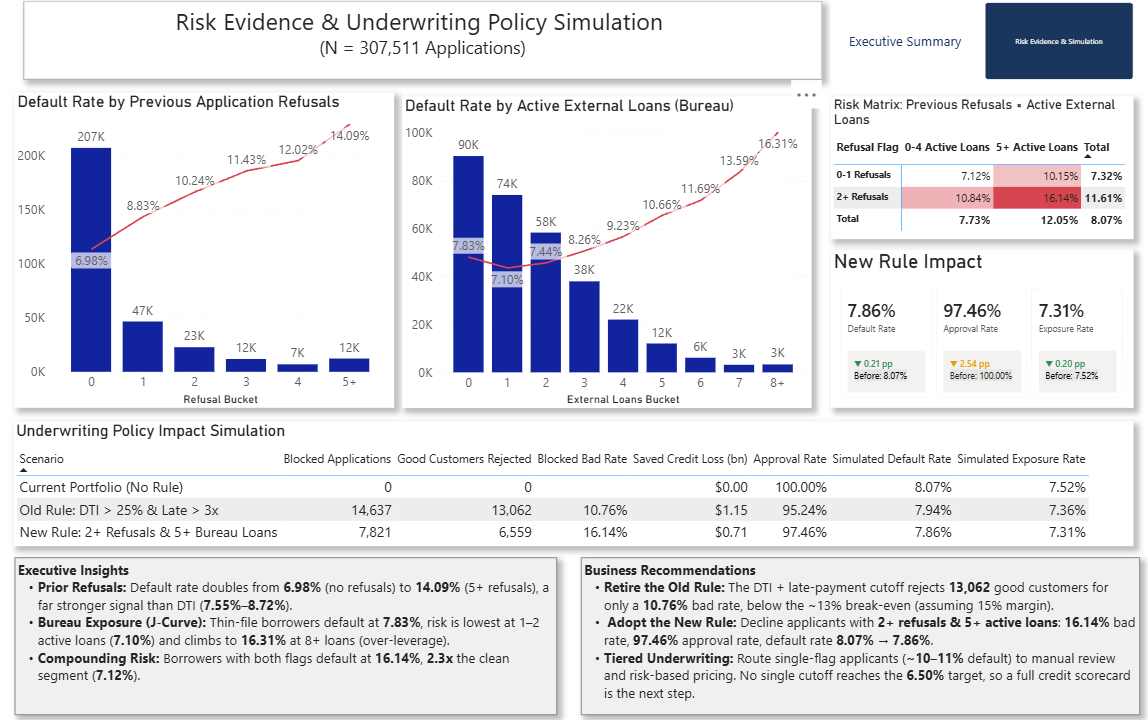

The dashboard page shown, as its layout file describes it:
{"tool":"powerbi","page":{"name":"Risk Evidence & Simulation","canvas":[2110,1339],"ordinal":1},"visuals":[{"type":"lineClusteredColumnComboChart","title":"Default Rate by Previous Application Refusals","fields":{"Category":["public master_credit_risk.Refusal Bucket"],"Y":["public master_credit_risk.Total Applications"],"Y2":["public master_credit_risk.Default Rate"]},"box":[33.3,186.7,690,573.3],"z":0},{"type":"lineClusteredColumnComboChart","title":"Default Rate by Active External Loans (Bureau)","fields":{"Category":["public master_credit_risk.External Loans Bucket"],"Y":["public master_credit_risk.Total Applications"],"Y2":["public master_credit_risk.Default Rate"]},"box":[740,192.5,745,567.5],"z":1000},{"type":"pivotTable","title":"Risk Matrix: Previous Refusals × Active External Loans","fields":{"Columns":["public master_credit_risk.Bureau Flag"],"Rows":["public master_credit_risk.Refusal Flag"],"Values":["public master_credit_risk.Default Rate"]},"box":[1520,192.5,550,260],"z":2000},{"type":"tableEx","title":"Underwriting Policy Impact Simulation","fields":{"Values":["Policy Scenario.Scenario","public master_credit_risk.Blocked Applications","public master_credit_risk.Good Customers Rejected","public master_credit_risk.Blocked Bad Rate","public master_credit_risk.Saved Credit Loss (bn)","public master_credit_risk.Approval Rate","public master_credit_risk.Simulated Default Rate","public master_credit_risk.Simulated Exposure Rate"]},"box":[32.5,785,2037.5,227.5],"z":3000},{"type":"textbox","box":[50,20,1452.5,142.5],"z":4000},{"type":"textbox","box":[1063.3,1033.3,1016.7,286.7],"z":5000},{"type":"textbox","box":[33.3,1033.3,986.7,286.7],"z":6000},{"type":"cardVisual","title":"New Rule Impact","fields":{"Data":["public master_credit_risk.Simulated Default Rate","public master_credit_risk.Approval Rate","public master_credit_risk.Simulated Exposure Rate"]},"box":[1520,472.5,550,287.5],"z":7000},{"type":"pageNavigator","box":[1520,22.5,550,140],"z":7001}]}

Visuals, with their boxes in screenshot pixels (x1, y1, x2, y2), scaled from the page's 2110x1339 canvas onto the 1148x720 screenshot:
"Default Rate by Previous Application Refusals" lineClusteredColumnComboChart: locate(18, 100, 394, 409)
"Default Rate by Active External Loans (Bureau)" lineClusteredColumnComboChart: locate(403, 104, 808, 409)
"Risk Matrix: Previous Refusals × Active External Loans" pivotTable: locate(827, 104, 1126, 243)
"Underwriting Policy Impact Simulation" tableEx: locate(18, 422, 1126, 544)
textbox: locate(27, 11, 817, 87)
textbox: locate(579, 556, 1132, 710)
textbox: locate(18, 556, 555, 710)
"New Rule Impact" cardVisual: locate(827, 254, 1126, 409)
pageNavigator: locate(827, 12, 1126, 87)
